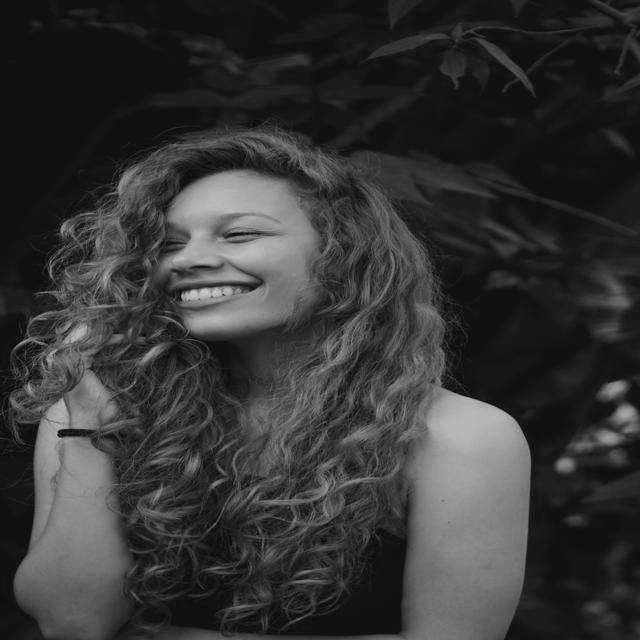Happiness: (145, 162, 330, 342)
